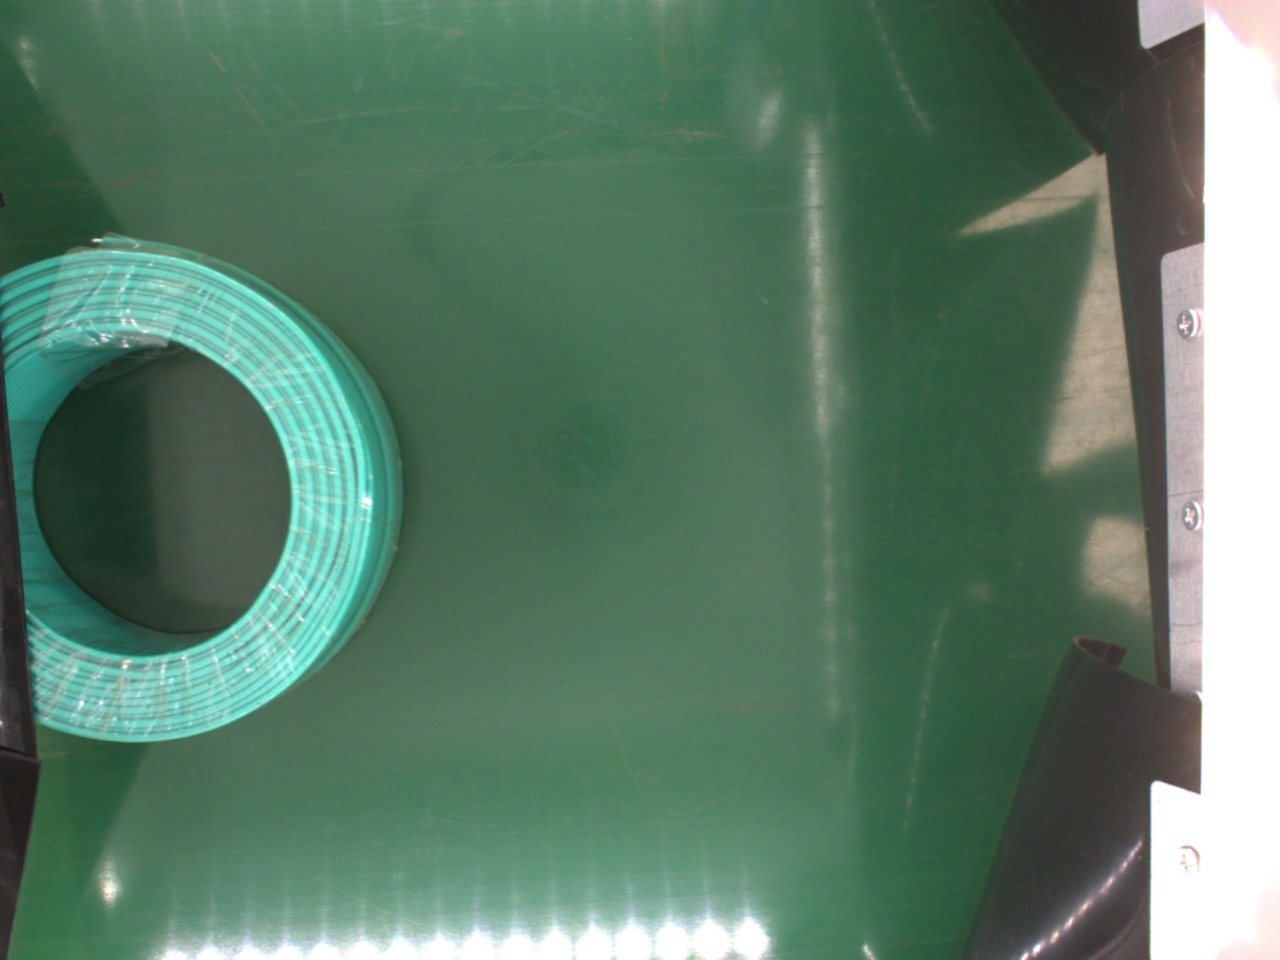green: (8, 240, 404, 752)
